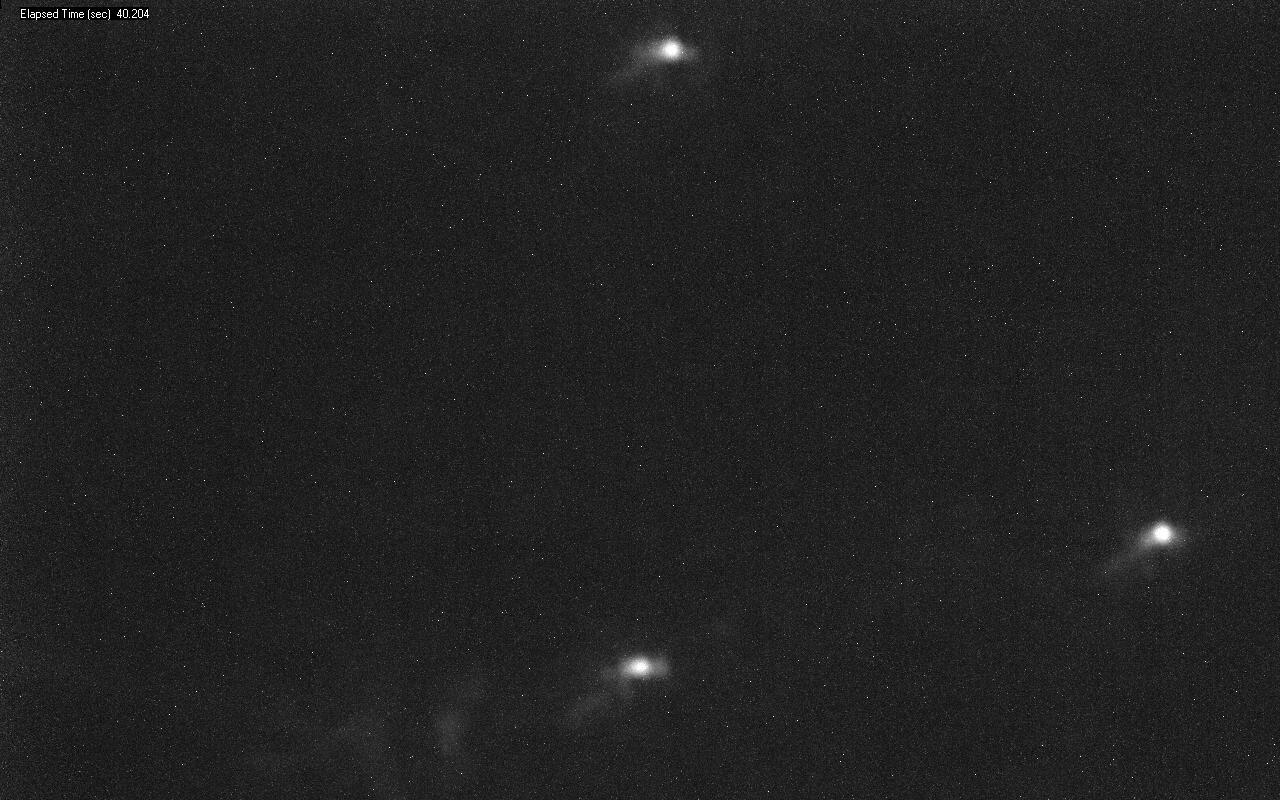Bead: (1141, 520, 1184, 548), (653, 37, 693, 65)
